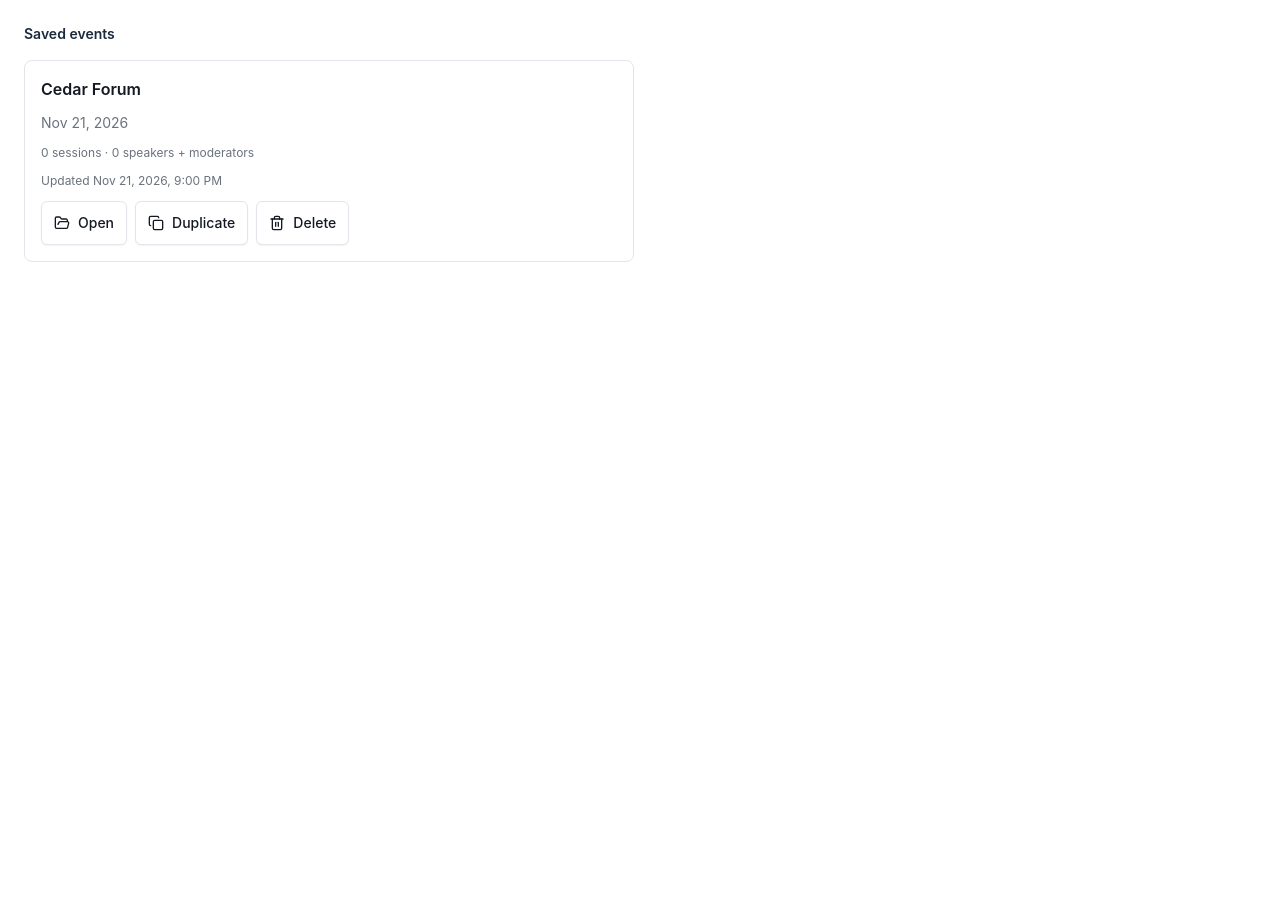
Test: requires owner confirmation and names the target before deleting
Later steps or results of the test are not shown.
Click the button "Delete" at (303, 223), box top-left (256, 201), bottom-right (349, 245)
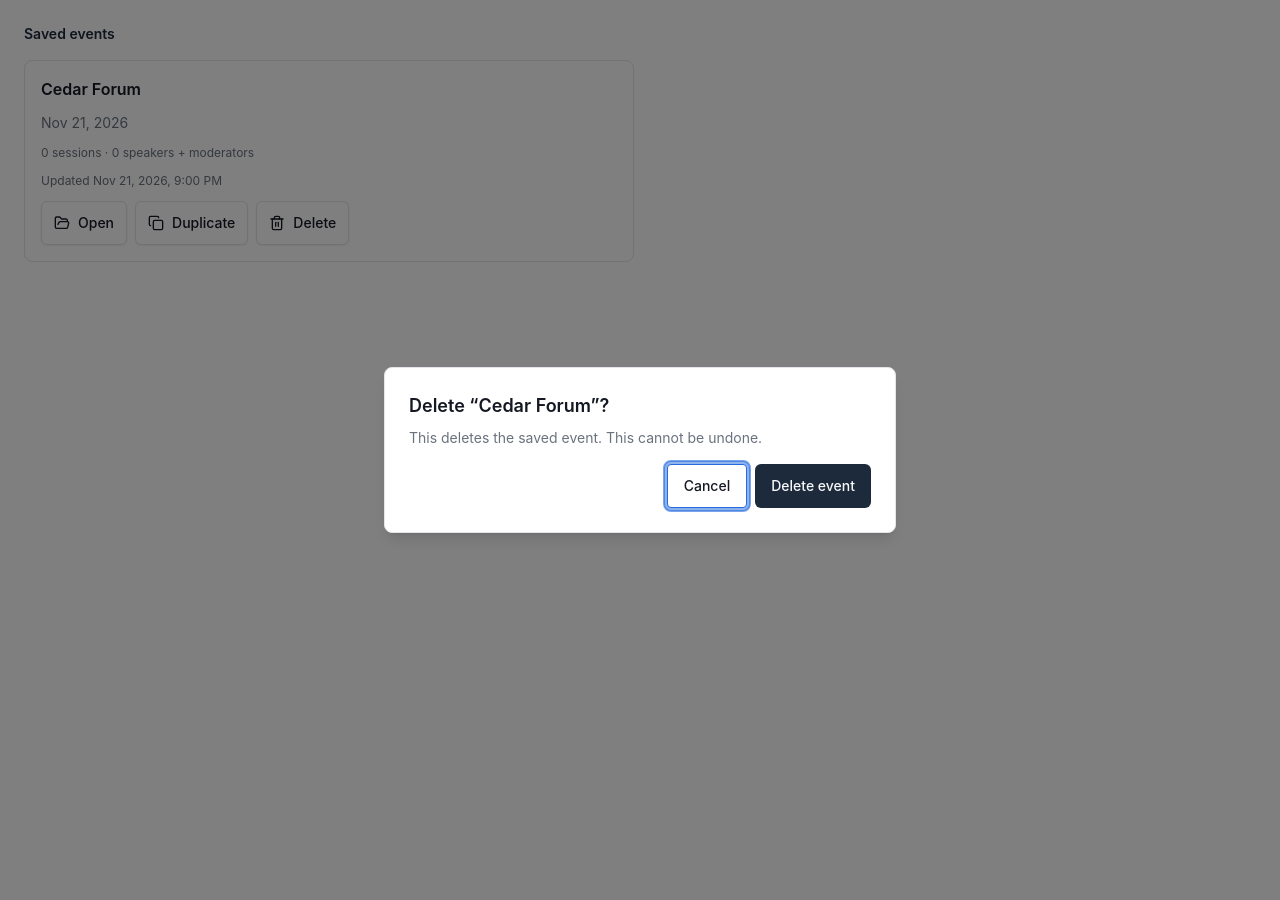
expect the dialog shows "Cedar Forum": met, box top-left (478, 395), bottom-right (591, 416)
